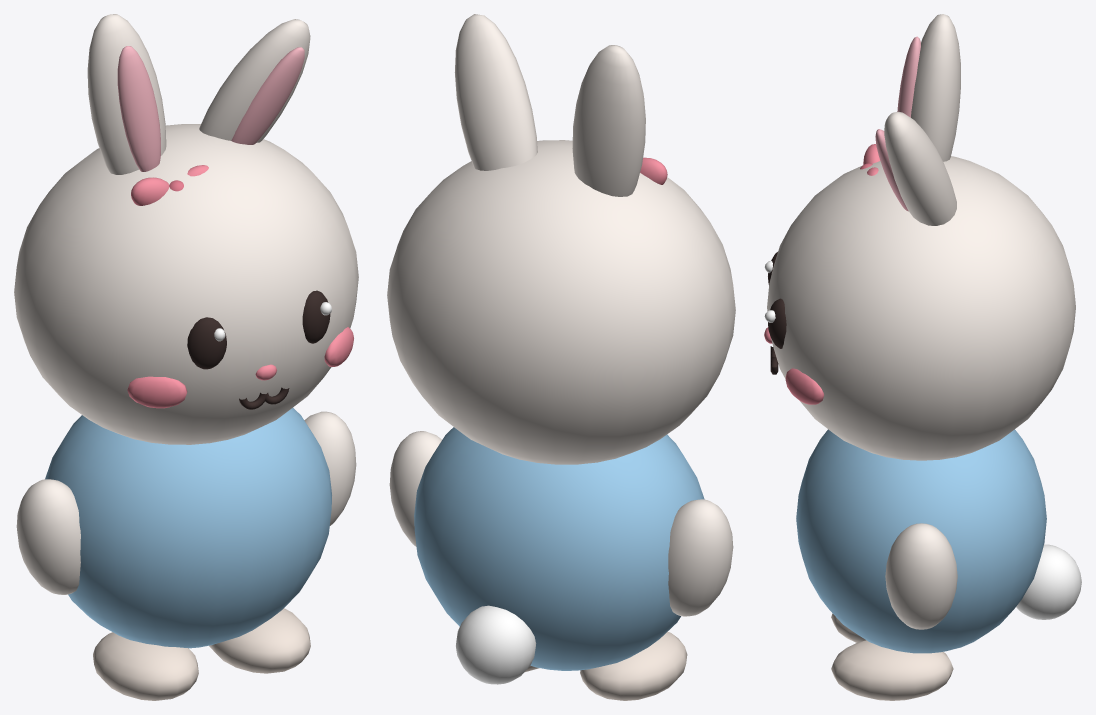
The model's file is cust_bunny.glb.
3 views of the same model, side by side, from view 1: azimuth 30°, elevation 25°; view 2: azimuth 150°, elevation 25°; view 3: azimuth 270°, elevation 25° (orthographic). The views are drawn at different scales.
Parts seen in each view (by area): view 1: Head, Body, ArmL, FootL, FootR, ArmR; view 2: Head, Body, ArmL, FootL, ArmR; view 3: Head, Body, ArmR, FootR.
Part boxes in pixels (box(x1,y1,x2,y2)): Head: box(14, 14, 358, 444); Body: box(45, 408, 331, 648); ArmL: box(16, 479, 80, 594); FootL: box(93, 632, 198, 700); FootR: box(209, 608, 310, 673); ArmR: box(304, 411, 356, 525); Head: box(387, 14, 735, 464); Body: box(414, 427, 704, 684); ArmL: box(668, 499, 733, 616); FootL: box(580, 631, 687, 700); ArmR: box(389, 431, 441, 546); Head: box(764, 14, 1075, 460); Body: box(796, 429, 1081, 653); ArmR: box(885, 523, 957, 629); FootR: box(831, 640, 953, 700).
Bounding box in the file's own units: 0.6185 × 1.18 × 0.545.
